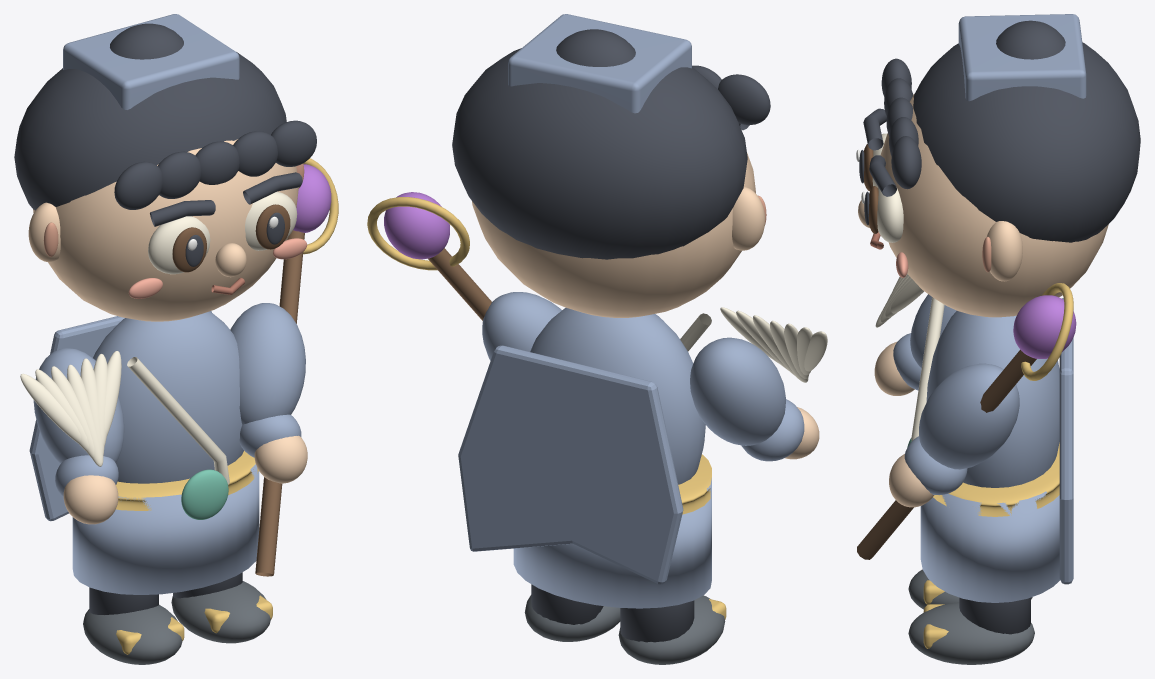
Rendered from luzhi.fbx.
3 renders of one model, left to right at view 1: azimuth 30°, elevation 25°; view 2: azimuth 150°, elevation 25°; view 3: azimuth 270°, elevation 25°, orthographic. The views are drawn at different scales.
Parts seen in each view (by area): view 1: hair_mass, face, body, robe_skirt, scholar_crown, sleeve, boot, boot.001, cape, spell_staff, sleeve.001, belt (+35 smaller); view 2: hair_mass, cape, face, body, robe_skirt, scholar_crown, sleeve.001, sleeve, boot, spell_gem, leg, staff_ring (+9 smaller); view 3: hair_mass, face, robe_skirt, body, scholar_crown, sleeve, boot.001, cape, spell_gem, belt, spell_staff, hair_bun (+20 smaller).
Boxes of the visible parts, box(x1,y1,x2,y2) form: hair_mass: box(14, 52, 286, 210); face: box(33, 139, 298, 321); body: box(93, 311, 243, 483); robe_skirt: box(72, 464, 259, 594); scholar_crown: box(63, 14, 239, 109); sleeve: box(230, 303, 305, 424); boot: box(83, 604, 182, 664); boot.001: box(171, 581, 270, 643); cape: box(29, 311, 211, 521); spell_staff: box(255, 230, 304, 576); sleeve.001: box(33, 348, 124, 463); belt: box(116, 450, 258, 510); hair_mass: box(452, 48, 747, 259); cape: box(458, 345, 683, 584); face: box(472, 153, 755, 317); body: box(530, 308, 705, 484); robe_skirt: box(513, 478, 711, 608); scholar_crown: box(508, 14, 691, 113); sleeve.001: box(690, 337, 785, 445); sleeve: box(482, 292, 561, 360); boot: box(618, 595, 725, 664); spell_gem: box(384, 192, 449, 259); leg: box(620, 600, 694, 642); staff_ring: box(367, 197, 469, 270); hair_mass: box(913, 42, 1140, 242); face: box(877, 93, 1108, 317); robe_skirt: box(920, 491, 1059, 602); body: box(926, 311, 1059, 487); scholar_crown: box(958, 14, 1086, 101); sleeve: box(919, 363, 1019, 469); boot.001: box(908, 602, 1034, 664); cape: box(1059, 298, 1073, 584); spell_gem: box(1013, 295, 1076, 358); belt: box(933, 442, 1059, 516); spell_staff: box(857, 349, 1036, 559); hair_bun: box(996, 20, 1065, 59).
Bounding box in the file's own units: 1.6 × 2.44 × 1.03.
